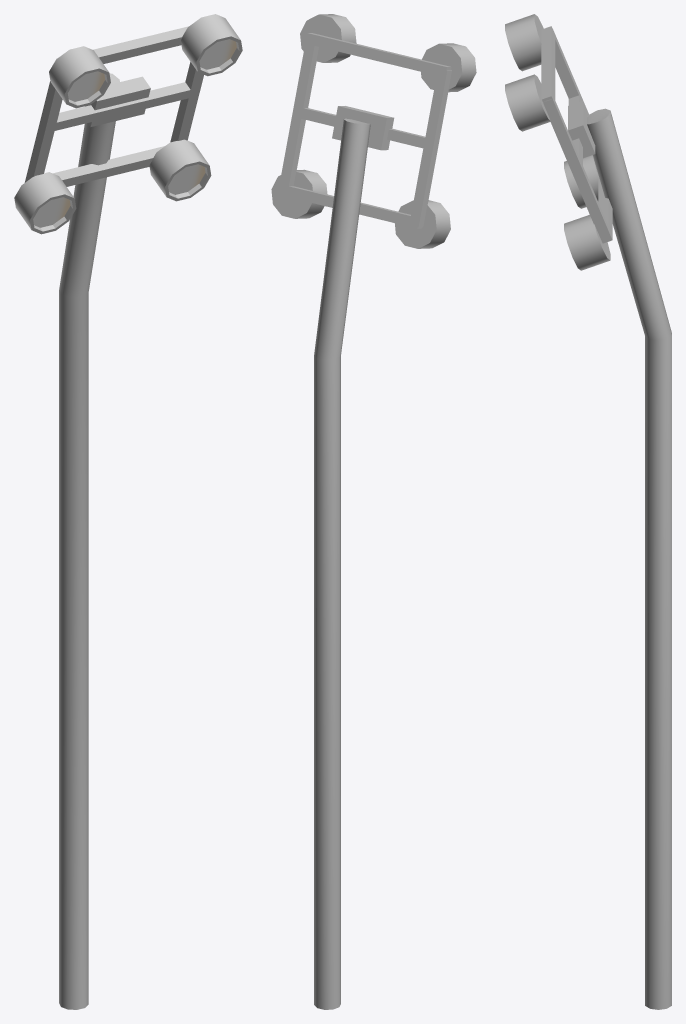
The model's file is Flash Light D.FBX.
3 views of the same model, side by side, from view 1: azimuth 30°, elevation 25°; view 2: azimuth 150°, elevation 25°; view 3: azimuth 270°, elevation 25° (orthographic). The views are drawn at different scales.
Visible parts, largest first — view 1: Cylinder005; view 2: Cylinder005; view 3: Cylinder005.
Boxes of the visible parts, box(x1,y1,x2,y2) form: Cylinder005: box(14, 14, 242, 1009); Cylinder005: box(271, 14, 476, 1009); Cylinder005: box(505, 14, 671, 1009).
Bounding box in the file's own units: 71.19 × 382 × 60.32.
